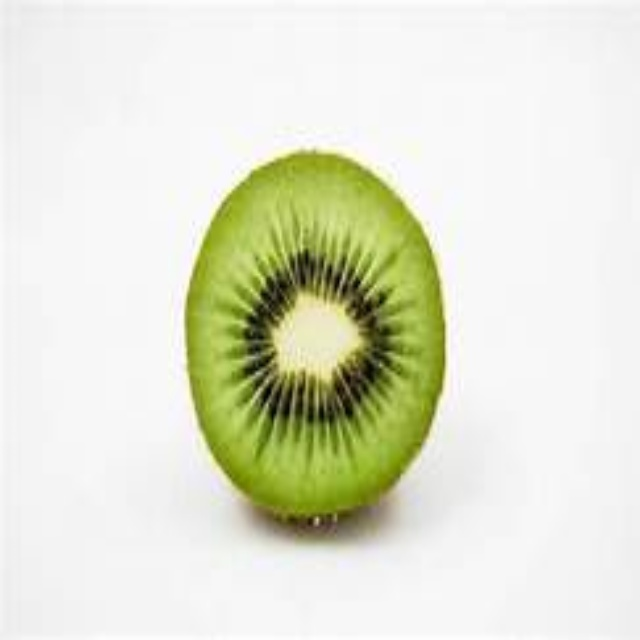kiwi: (178, 152, 471, 537)
